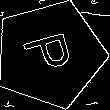P_E: (19, 30, 81, 79)
